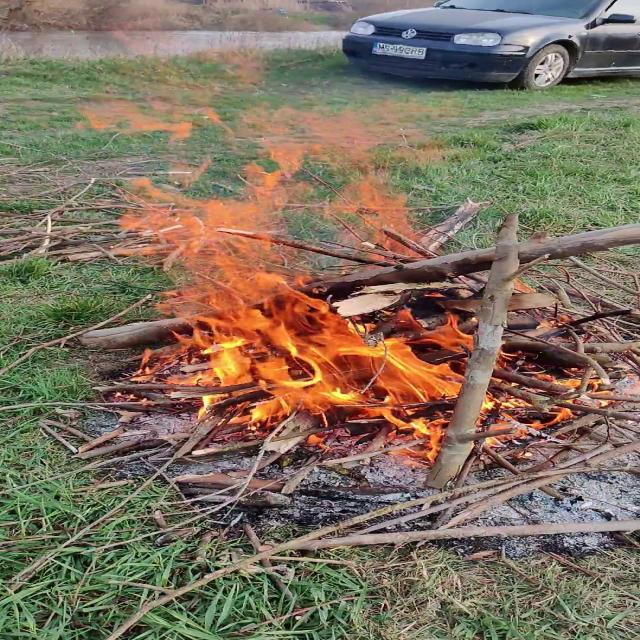Fire: (109, 94, 580, 452)
